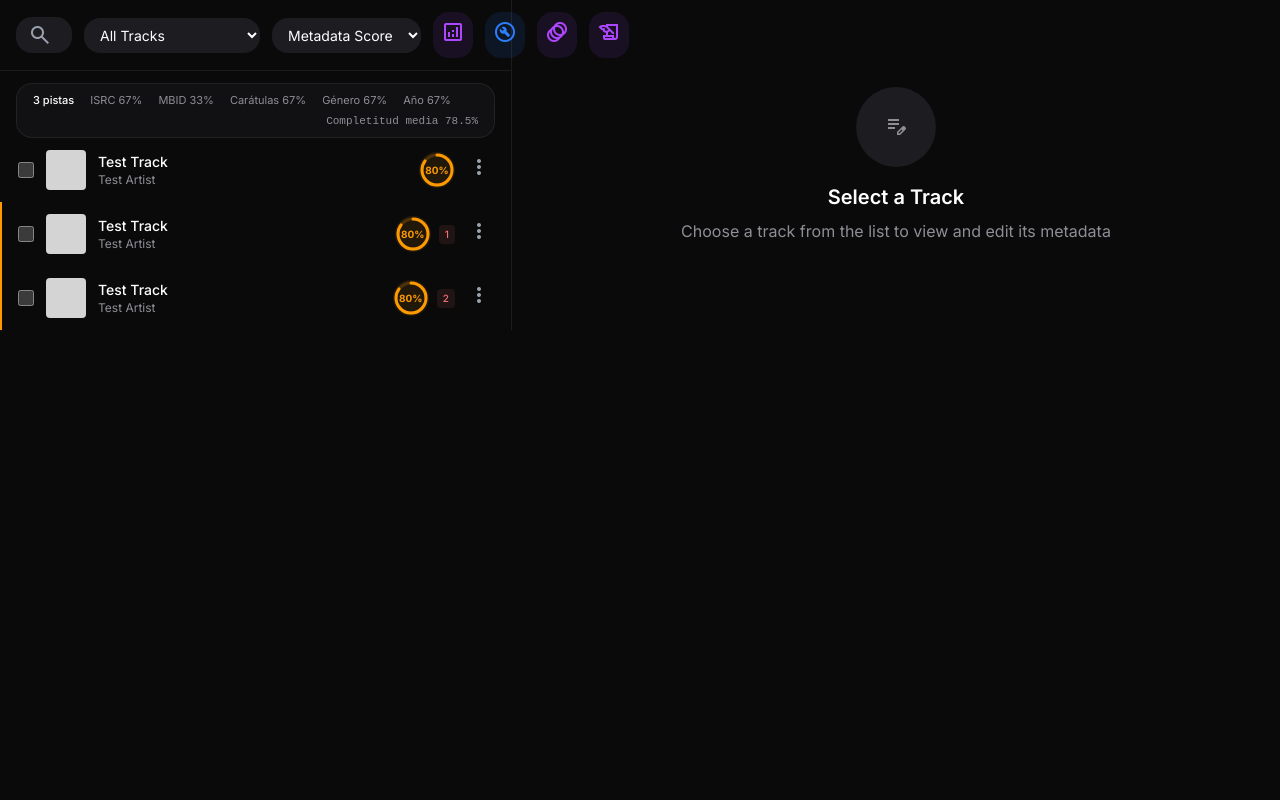
Test: MetadataView (fully wired tab) › quality report shows counts computed from the loaded library
Step 1. Click the button titled "Analyze Quality" → [453, 35], box [433,12,473,58]
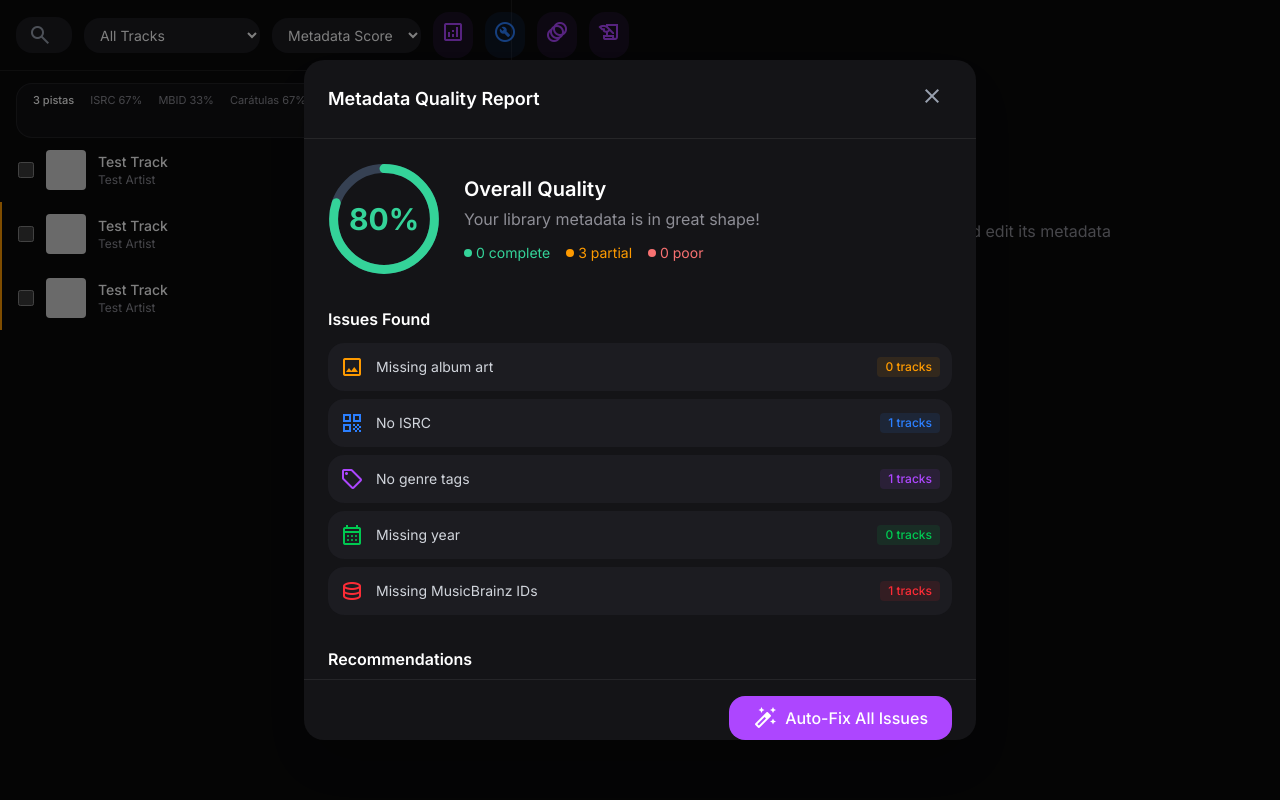
Result: the element that starts with "Metadata Quality Report" is shown
Result: the element that starts with "Metadata Quality Report" shows "No ISRC" at [328,399,952,447]
Result: the element that starts with "Metadata Quality Report" shows "1 tracks" at [328,399,952,447]
